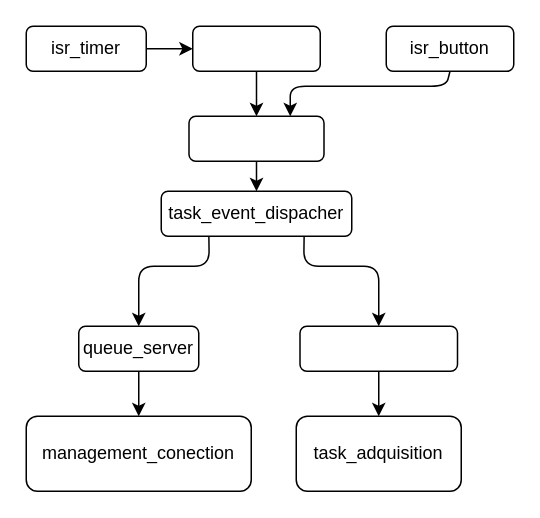
This 540x518 diagram has some shape labels left out. Here are the shapes that lost their labels. From the top down, the centre of each, then its label:
(x=255, y=48): task_app
(x=256, y=138): queue_event
(x=378, y=348): queue_adquisition
